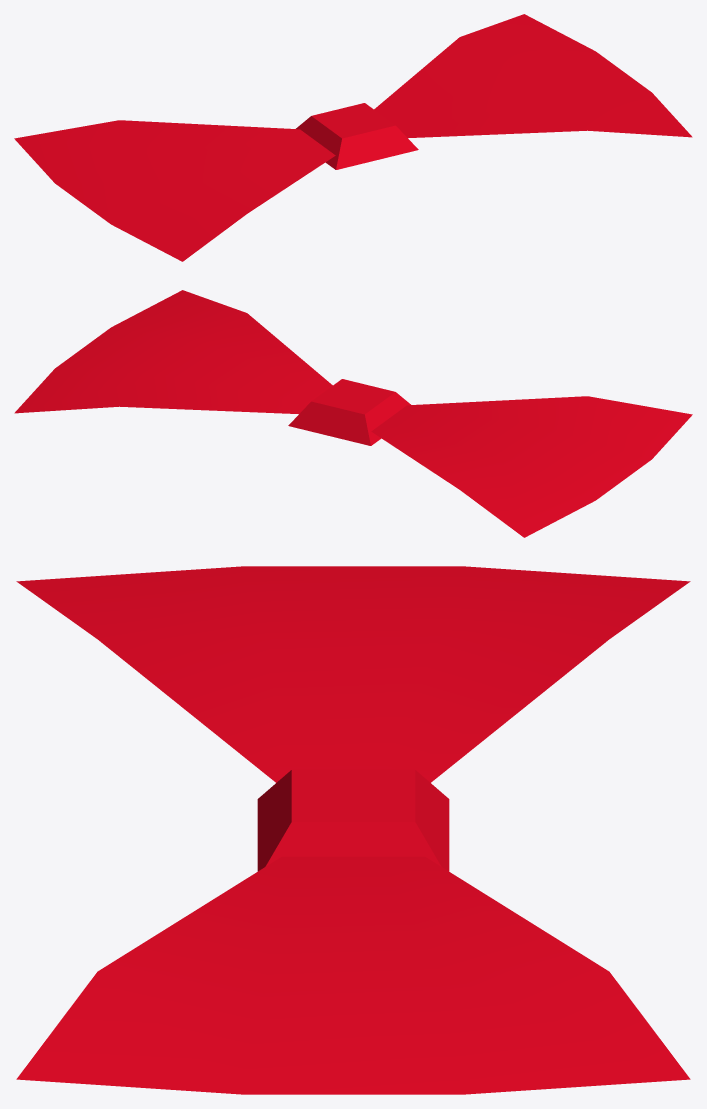
Rendered from shanghai_bowtie.glb.
3 views of the same model, one above another, from view 1: azimuth 30°, elevation 25°; view 2: azimuth 150°, elevation 25°; view 3: azimuth 270°, elevation 25° (orthographic). The views are drawn at different scales.
Parts seen in each view (by area): view 1: CollarBow; view 2: CollarBow; view 3: CollarBow.
Part boxes in pixels (x1=…): CollarBow: x1=14, y1=14, x2=692, y2=261; CollarBow: x1=14, y1=290, x2=692, y2=537; CollarBow: x1=16, y1=566, x2=690, y2=1094.
Size of the model in its own units: 0.4661 by 0.018 by 0.2517.
